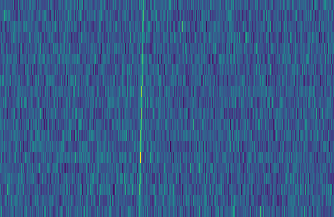signal: (133, 0, 146, 217)
